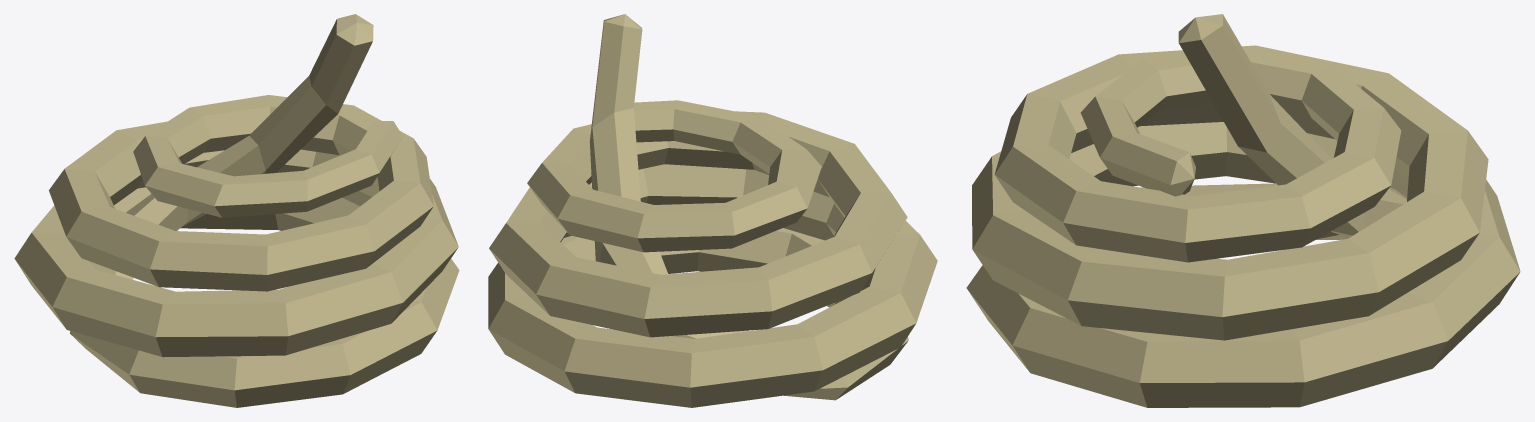
The model's file is rope.fbx.
3 renders of one model, left to right at view 1: azimuth 30°, elevation 25°; view 2: azimuth 150°, elevation 25°; view 3: azimuth 270°, elevation 25°, orthographic. The views are drawn at different scales.
Visible parts, largest first — view 1: rope; view 2: rope; view 3: rope.
Boxes of the visible parts, box(x1,y1,x2,y2) form: rope: box(14, 14, 459, 407); rope: box(488, 14, 937, 407); rope: box(966, 14, 1520, 407).
Size of the model in its own units: 3.18 by 2.36 by 3.15.
